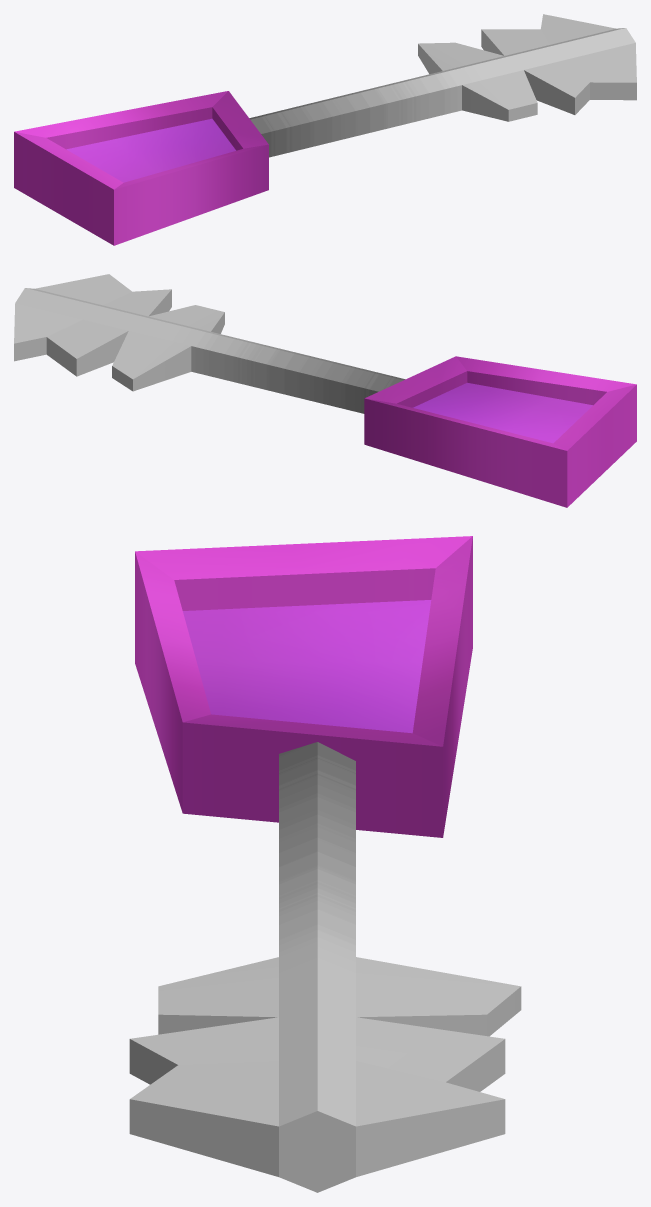
Rendered from obj_key02_alt.gltf.
3 views of the same model, one above another, from view 1: azimuth 30°, elevation 25°; view 2: azimuth 150°, elevation 25°; view 3: azimuth 270°, elevation 25° (orthographic). The views are drawn at different scales.
Parts seen in each view (by area): view 1: obj_key02_alt; view 2: obj_key02_alt; view 3: obj_key02_alt.
Boxes of the visible parts, left/top/right/bottom form: obj_key02_alt: left=14, top=14, right=636, bottom=245; obj_key02_alt: left=14, top=274, right=636, bottom=507; obj_key02_alt: left=129, top=536, right=521, bottom=1192.
Size of what is drawn, in the model's own units: 0.9846 by 0.0922 by 0.291.
Materials: 1 (1 with a texture image).
